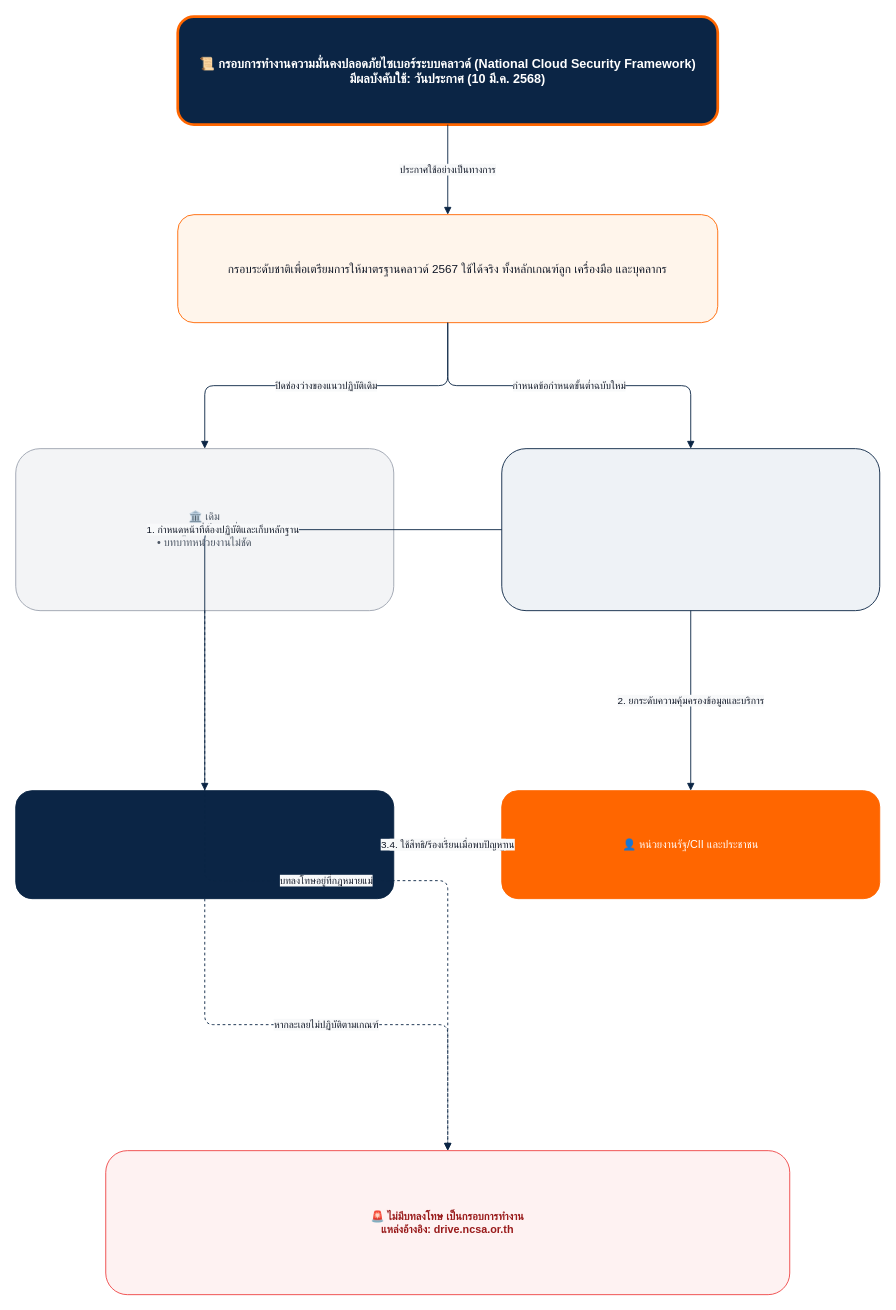
Image size: 896x1310. Some labels were removed from this diagram. The centre of each missing label's shape, as x and y in pixels:
"🏢 ผู้ให้บริการคลาวด์ / หน่วยตรวจรับรอง (CB)" goes at point (204, 844).
"🚀 ใหม่ • 17 สิ่งที่ต้องจัดทำ • กลไก CB / Attestation • บทบาทผู้เกี่ยวข้องชัด" goes at point (690, 529).
